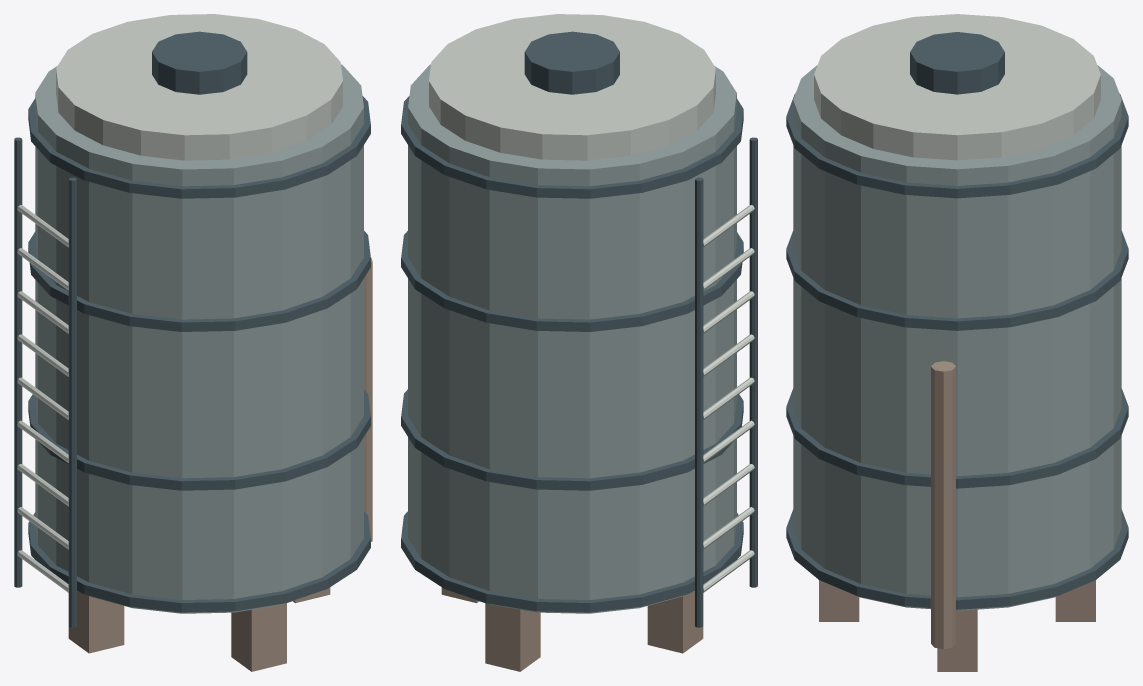
File: DF210_Tank_Vertical.glb
The picture shows the model from 3 angles, left to right: view 1: azimuth 30°, elevation 25°; view 2: azimuth 150°, elevation 25°; view 3: azimuth 270°, elevation 25°; orthographic projection.
Parts seen in each view (by area): view 1: Shell, RoofCone, WrapBand_3.9, Hatch, WrapBand_2.85, WrapBand_0.64, WrapBand_1.6, LadderRail_0.39, LadderRail_-0.39, Pedestal_1, Pedestal_2, Inlet; view 2: Shell, RoofCone, WrapBand_3.9, Hatch, WrapBand_2.85, WrapBand_0.64, WrapBand_1.6, LadderRail_-0.39, LadderRail_0.39, Pedestal_3, Pedestal_2; view 3: Shell, RoofCone, Inlet, WrapBand_3.9, WrapBand_2.85, Hatch, WrapBand_1.6, WrapBand_0.64, Pedestal_0, Pedestal_1, Pedestal_3.
Part boxes in pixels (x1,y1,x2,y2): Shell: (35,64,363,613); RoofCone: (56,14,342,160); WrapBand_3.9: (28,96,370,198); Hatch: (152,31,247,94); WrapBand_2.85: (28,231,370,331); WrapBand_0.64: (28,511,370,612); WrapBand_1.6: (28,389,370,490); LadderRail_0.39: (68,177,76,627); LadderRail_-0.39: (14,137,22,587); Pedestal_1: (231,603,286,671); Pedestal_2: (68,590,124,653); Inlet: (364,258,372,541); Shell: (408,64,736,613); RoofCone: (429,14,715,160); WrapBand_3.9: (401,96,743,198); Hatch: (524,31,619,94); WrapBand_2.85: (401,231,743,331); WrapBand_0.64: (401,511,743,612); WrapBand_1.6: (401,389,743,490); LadderRail_-0.39: (695,177,703,627); LadderRail_0.39: (749,137,757,587); Pedestal_3: (485,603,540,671); Pedestal_2: (647,590,703,653); Shell: (793,65,1121,610); RoofCone: (814,14,1100,160); Inlet: (931,361,955,649); WrapBand_3.9: (786,93,1128,198); WrapBand_2.85: (786,231,1128,330); Hatch: (910,32,1004,94); WrapBand_1.6: (786,388,1128,488); WrapBand_0.64: (786,509,1128,609); Pedestal_0: (937,609,977,671); Pedestal_1: (819,580,859,621); Pedestal_3: (1055,580,1095,621).
Size of the model in its own units: 2.66 by 4.45 by 2.46.
